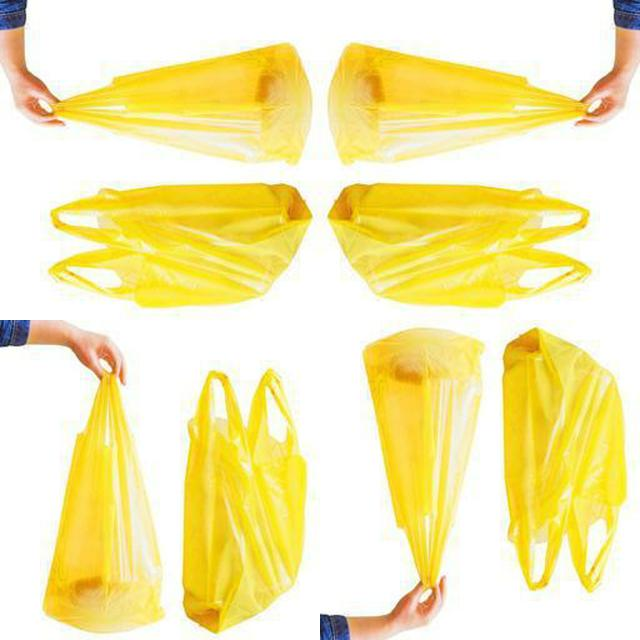Single-layer Plastic: (329, 184, 590, 306), (184, 370, 306, 631), (504, 329, 626, 590), (51, 184, 311, 306), (364, 329, 484, 586), (52, 44, 311, 163), (329, 44, 588, 162), (44, 374, 162, 631)
